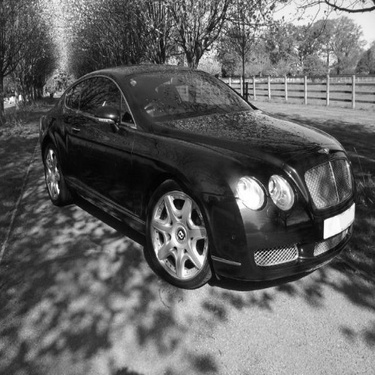car: (38, 67, 373, 286)
